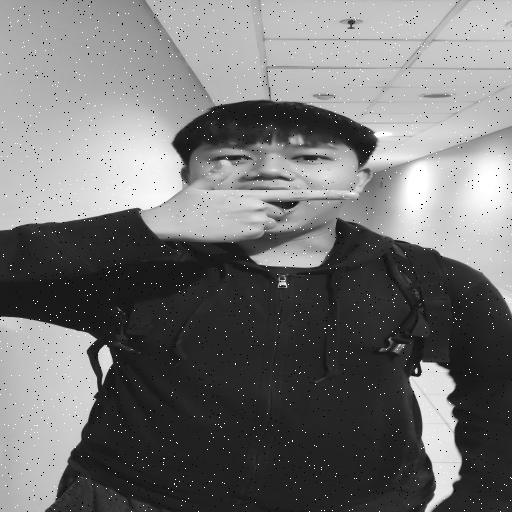next: (124, 147, 383, 253)
